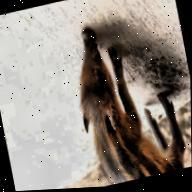boar: (65, 14, 190, 189)
